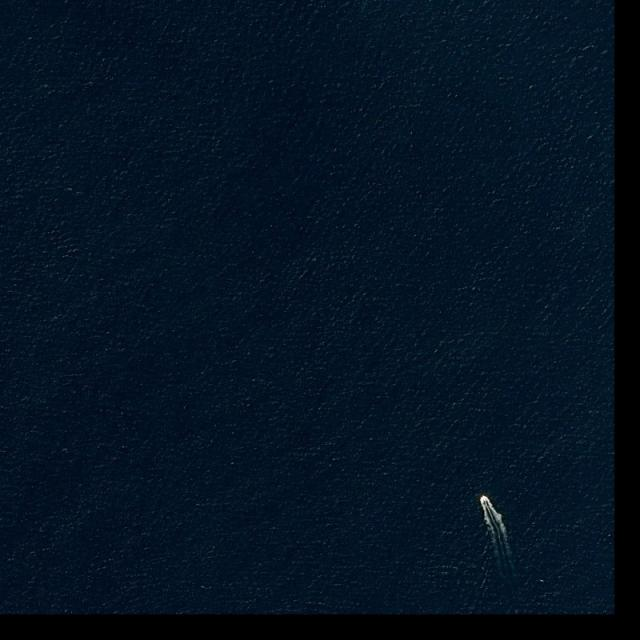ship: (482, 494, 488, 502)
